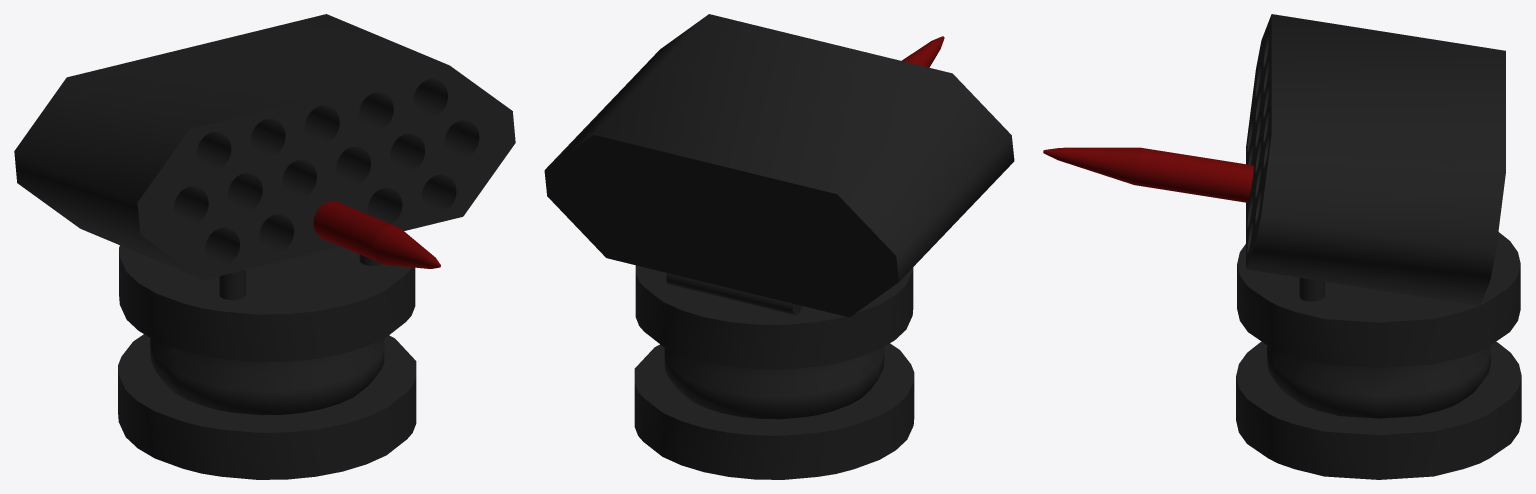
The model's file is AirTower.fbx.
3 renders of one model, left to right at view 1: azimuth 30°, elevation 25°; view 2: azimuth 150°, elevation 25°; view 3: azimuth 270°, elevation 25°, orthographic. The views are drawn at different scales.
Parts seen in each view (by area): view 1: Head_1, Body, Patrone_1; view 2: Head_1, Body, Patrone_1; view 3: Head_1, Body, Patrone_1.
Part boxes in pixels (x1,y1,x2,y2): Head_1: [14, 14, 515, 300]; Body: [118, 245, 416, 479]; Patrone_1: [313, 201, 440, 268]; Head_1: [544, 14, 1014, 317]; Body: [634, 265, 914, 479]; Patrone_1: [901, 36, 944, 67]; Head_1: [1246, 14, 1505, 305]; Body: [1236, 232, 1521, 479]; Patrone_1: [1043, 147, 1253, 202].
Bounding box in the file's own units: 260 × 240 × 302.
